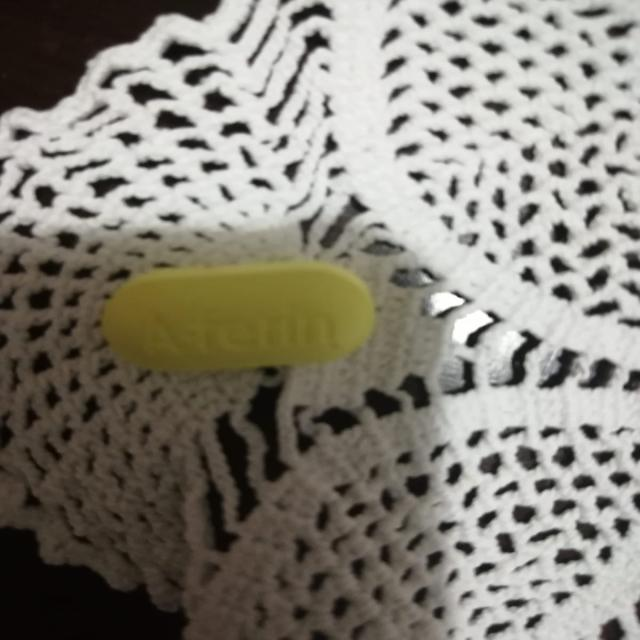pills: (78, 250, 395, 386)
